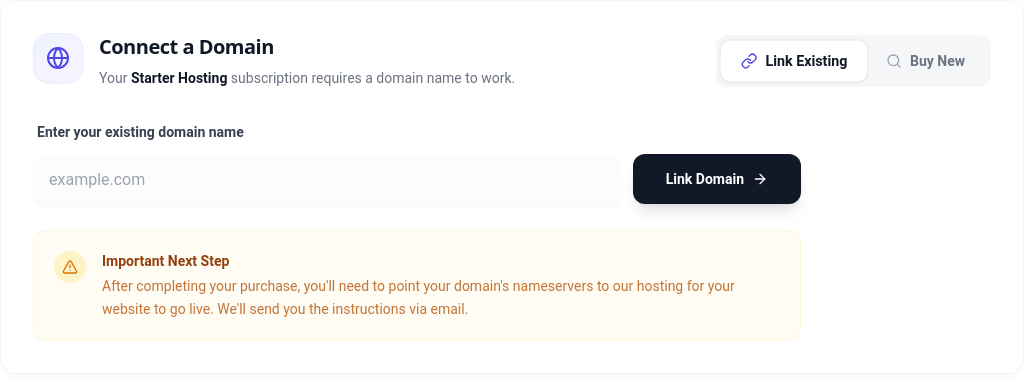
<DomainSetup> › Buy New tab › switches to the search UI when the Buy New tab is clicked
This screenshot has width=1024, height=391.
Click the button "Buy New". click: (926, 61)
box: [866,41,985,81]
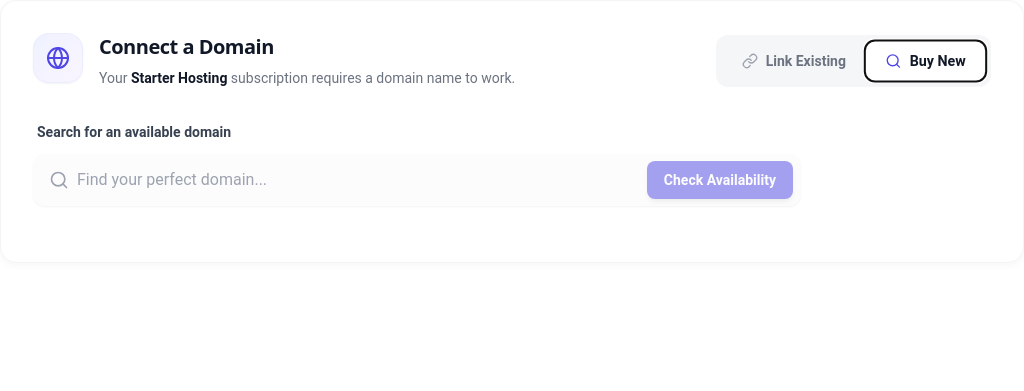
expect the field with placeholder "Find your perfect domain..." is shown: met, box [33,154,801,206]
expect the button "Check Availability" is shown: met, box [647,161,793,199]
